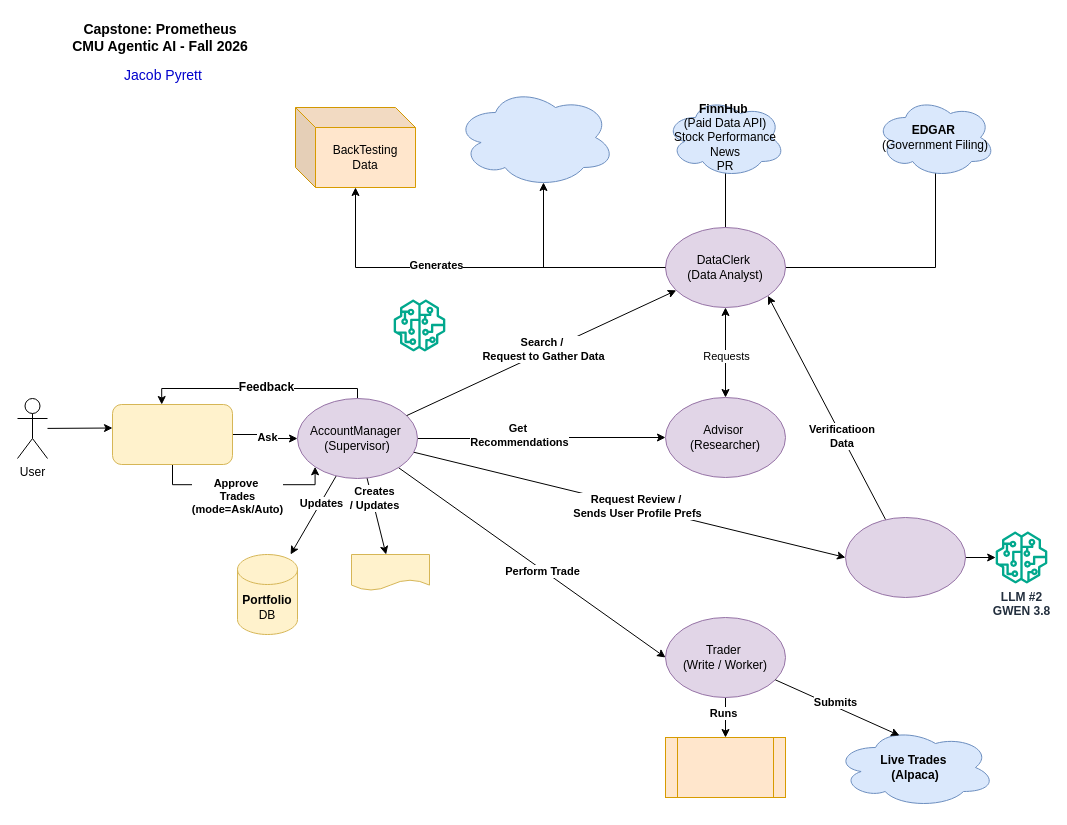
The diagram is 1067 pixels wide and 825 high, and some of its shapes have lost their labels. The centre of each missing label's shape, as x and y in pixels:
App ("Prometheus"): [172,434]
BackTesting (Simulator): [725,767]
Critic (Review): [905,557]
LLM #1 GPT-OSS-120B: [419,325]
Massive.com (was Polygon.io) (Paid Data API) Historial Data News PR: [535,137]
WorkOrder: [390,572]
